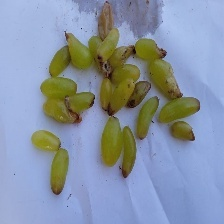grapes: (8, 32, 188, 179)
